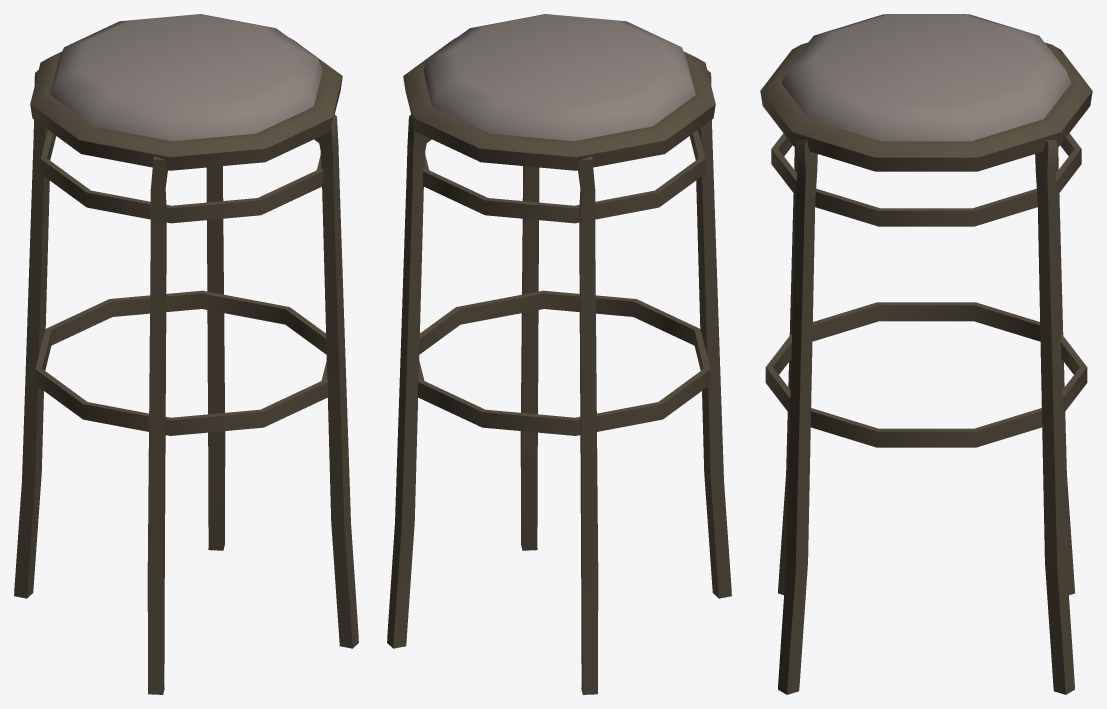
The model's file is Stool.gltf.
3 views of the same model, side by side, from view 1: azimuth 30°, elevation 25°; view 2: azimuth 150°, elevation 25°; view 3: azimuth 270°, elevation 25° (orthographic). The views are drawn at different scales.
Visible parts, largest first — view 1: Stool; view 2: Stool; view 3: Stool.
Part boxes in pixels (x1,y1,x2,y2): Stool: [14, 14, 358, 694]; Stool: [387, 14, 731, 694]; Stool: [760, 14, 1092, 694].
Bounding box in the file's own units: 0.6753 × 1.37 × 0.7101.
